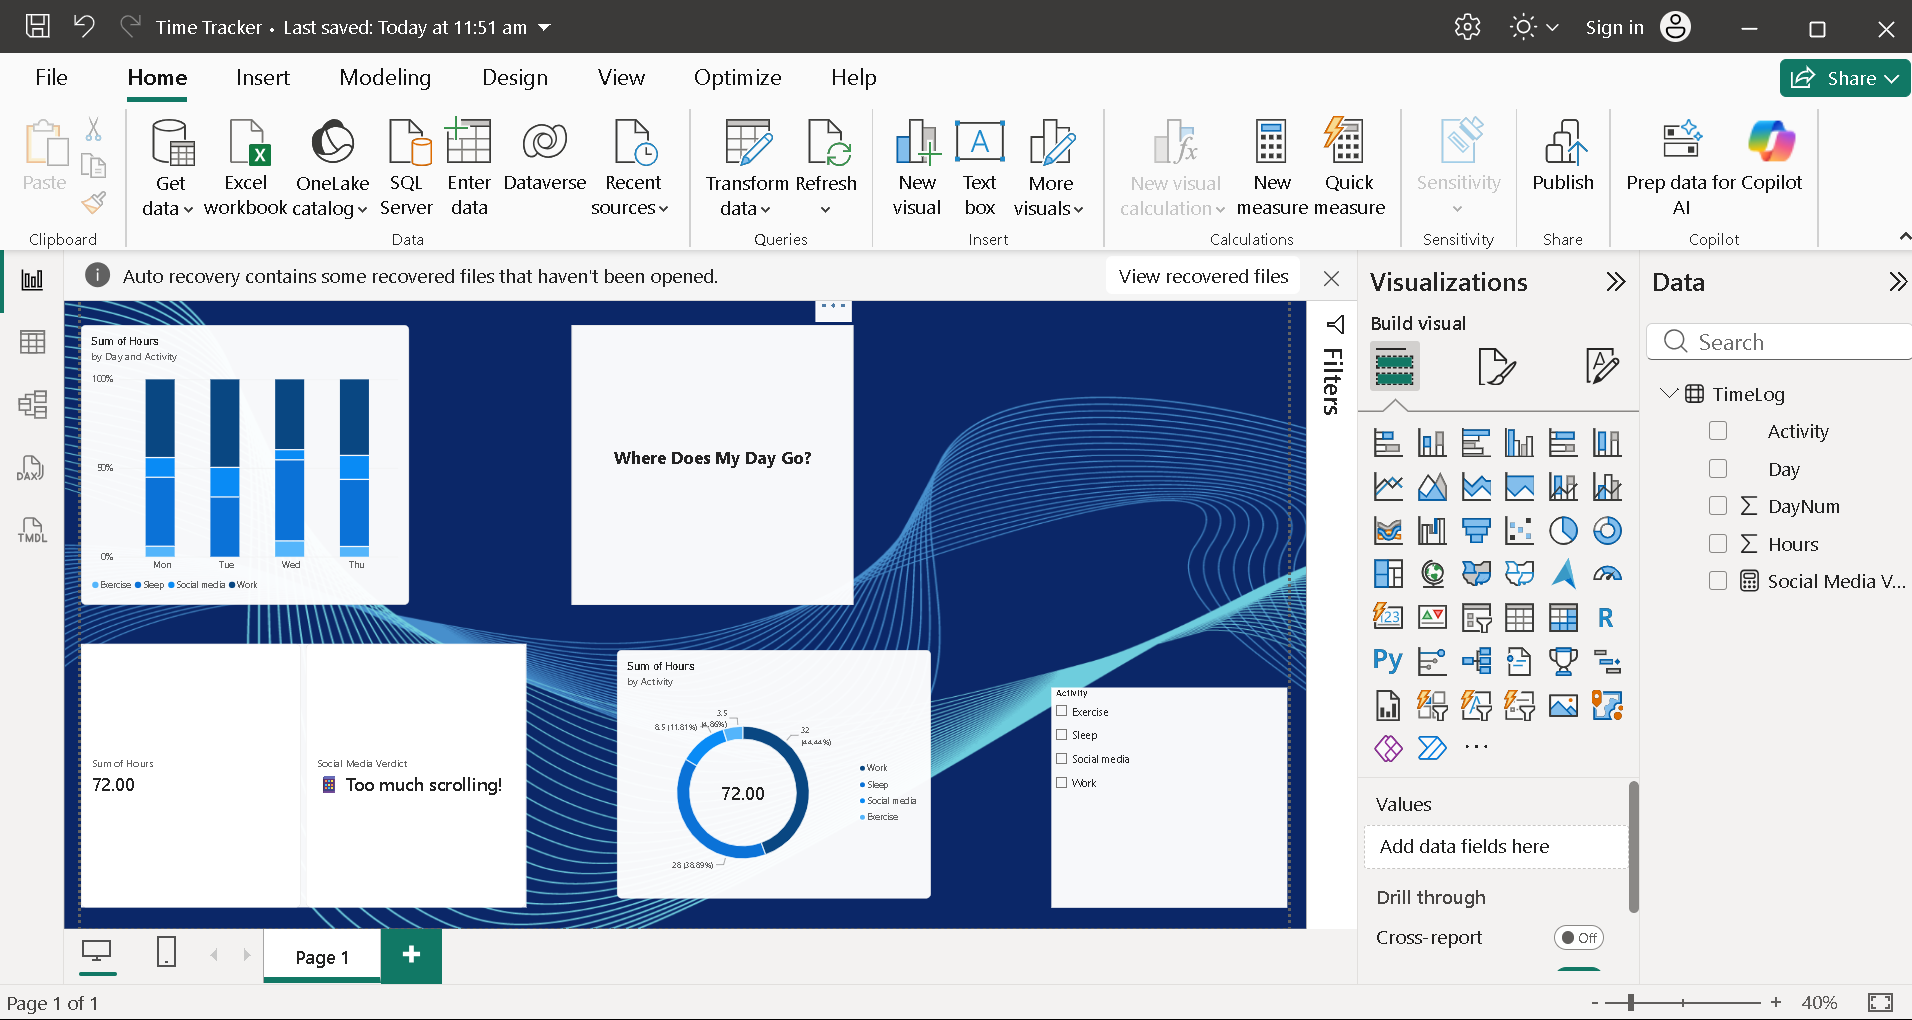

What the dashboard file says about the page in this screenshot:
{"tool":"powerbi","page":{"name":"Page 1","canvas":[1920,1080],"ordinal":0},"visuals":[{"type":"donutChart","fields":{"Category":["TimeLog.Activity"],"Y":["Sum(TimeLog.Hours)"]},"box":[853.1,636.7,499.9,395.5],"z":0},{"type":"hundredPercentStackedColumnChart","fields":{"Category":["TimeLog.Day"],"Series":["TimeLog.Activity"],"Y":["Sum(TimeLog.Hours)"]},"box":[0,119.4,522.3,445.2],"z":1},{"type":"cardVisual","fields":{"Data":["Sum(TimeLog.Hours)","TimeLog.Social Media Verdict"]},"box":[0,626.8,709,420],"z":2},{"type":"slicer","fields":{"Values":["TimeLog.Activity"]},"box":[1544.5,696.4,375.6,350.7],"z":3},{"type":"textbox","box":[781,119.4,447.7,445.2],"z":4}]}

Visuals, with their boxes on the page's 1920x1080 design canvas (x1, y1, x2, y2). These are canvas units, not pixel positions in the 1912x1020 screenshot, which may show the page scaled, cropped or inside an application window:
donutChart - TimeLog.Activity x Sum(TimeLog.Hours): bbox=[853, 637, 1353, 1032]
hundredPercentStackedColumnChart - TimeLog.Day x TimeLog.Activity: bbox=[0, 119, 522, 565]
cardVisual - Sum(TimeLog.Hours) x TimeLog.Social Media Verdict: bbox=[0, 627, 709, 1047]
slicer - TimeLog.Activity: bbox=[1544, 696, 1920, 1047]
textbox: bbox=[781, 119, 1229, 565]
